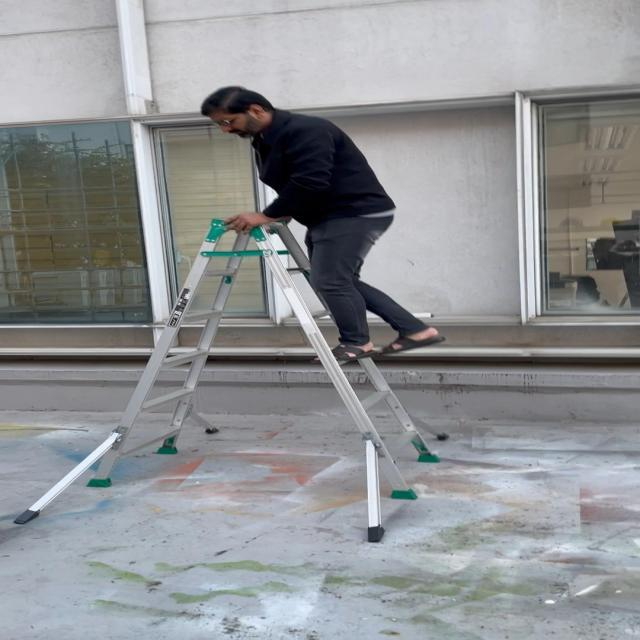boots: (13, 213, 459, 544)
vest: (187, 84, 457, 372)
